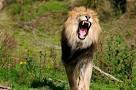lion: (61, 8, 101, 90)
